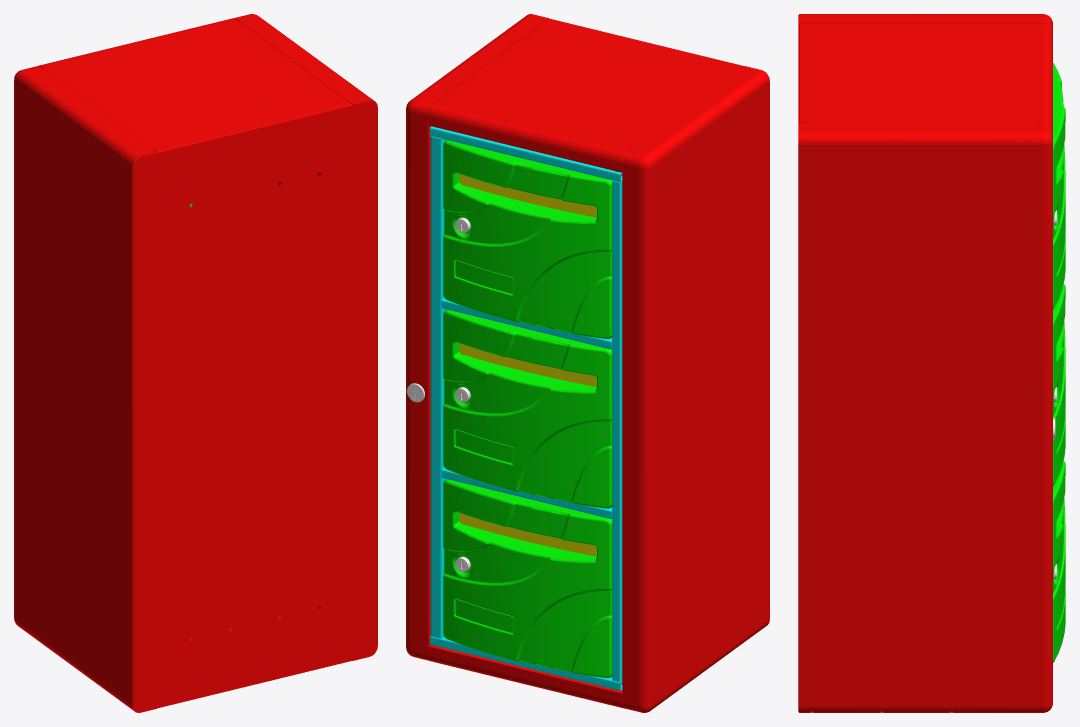
Rendered from elite_A3.glb.
3 views of the same model, side by side, from view 1: azimuth 30°, elevation 25°; view 2: azimuth 150°, elevation 25°; view 3: azimuth 270°, elevation 25° (orthographic). The views are drawn at different scales.
Parts seen in each view (by area): view 1: TOLE FOND coffre arrondie A3, TOLE DROITE coffre arrondie 3, TOLE DESSUS coffre arrondie A, TOLE GAUCHE coffre arrondie 3_Défaut<Brut d''usinage>; view 2: TOLE DROITE coffre arrondie 3, TOLE DESSUS coffre arrondie A, facade portillon élite_node, facade portillon élite_node_0, facade portillon élite, TOLE GAUCHE coffre arrondie 3_Défaut<Brut d''usinage>, TOLE PLIEE CROCHET CADRE 3, TUBE COTEE CADRE 3_node, TOLE DESSUS coffre arrondie A_node, TUBE DESSUS CADRE A, volet élite, volet élite_node (+7 smaller); view 3: TOLE GAUCHE coffre arrondie 3_Défaut<Brut d''usinage>, TOLE DESSUS coffre arrondie A, facade portillon élite, TOLE DROITE coffre arrondie 3, facade portillon élite_node_0, facade portillon élite_node, TOLE FOND coffre arrondie A3.
Boxes of the visible parts, x1,y1,x2,y2 form: TOLE FOND coffre arrondie A3: [133, 101, 377, 712]; TOLE DROITE coffre arrondie 3: [14, 66, 157, 712]; TOLE DESSUS coffre arrondie A: [38, 18, 351, 152]; TOLE GAUCHE coffre arrondie 3_Défaut<Brut d''usinage>: [229, 14, 377, 660]; TOLE DROITE coffre arrondie 3: [622, 66, 769, 712]; TOLE DESSUS coffre arrondie A: [427, 18, 743, 172]; facade portillon élite_node: [443, 309, 612, 508]; facade portillon élite_node_0: [443, 479, 612, 678]; facade portillon élite: [443, 140, 612, 338]; TOLE GAUCHE coffre arrondie 3_Défaut<Brut d''usinage>: [406, 14, 549, 660]; TOLE PLIEE CROCHET CADRE 3: [430, 126, 446, 644]; TUBE COTEE CADRE 3_node: [612, 180, 622, 682]; TOLE DESSUS coffre arrondie A_node: [427, 644, 624, 708]; TUBE DESSUS CADRE A: [431, 126, 622, 182]; volet élite: [459, 174, 596, 217]; volet élite_node: [459, 343, 596, 386]; TOLE GAUCHE coffre arrondie 3_Défaut<Brut d''usinage>: [799, 123, 1052, 712]; TOLE DESSUS coffre arrondie A: [799, 23, 1052, 129]; facade portillon élite: [1053, 63, 1065, 308]; TOLE DROITE coffre arrondie 3: [799, 14, 1052, 29]; facade portillon élite_node_0: [1053, 461, 1065, 662]; facade portillon élite_node: [1053, 284, 1065, 485]; TOLE FOND coffre arrondie A3: [798, 15, 798, 711].
Size of the model in its own units: 424 by 918 by 383.
